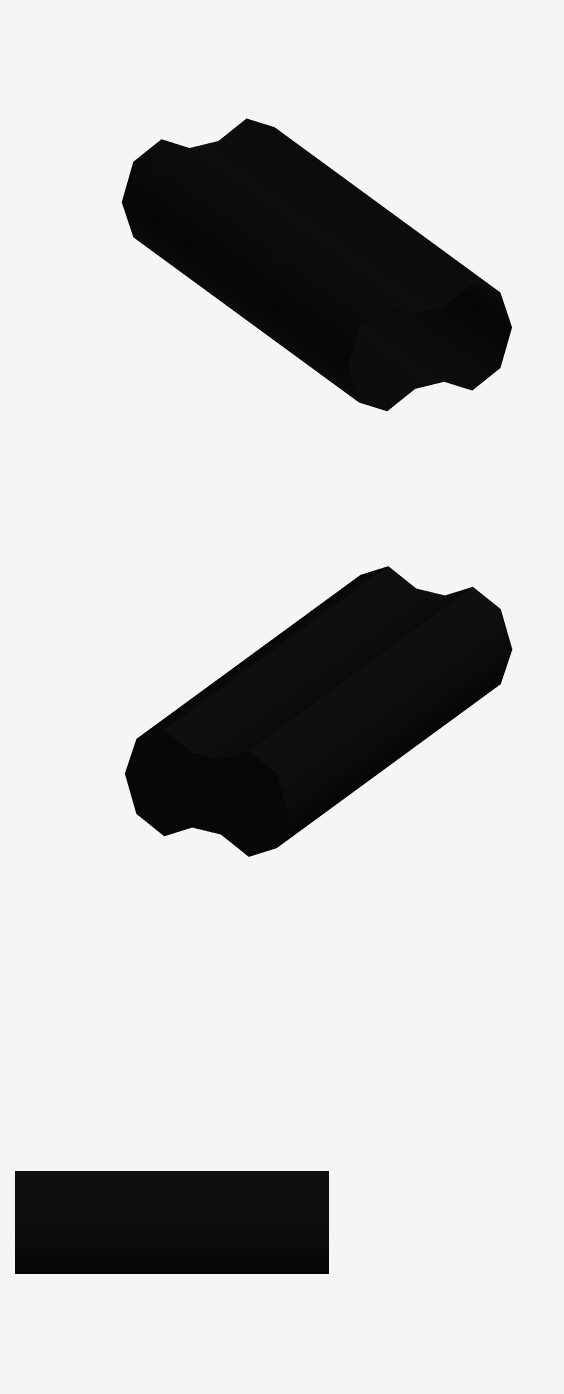
File: Shotgun.fbx
3 views of the same model, one above another, from view 1: azimuth 30°, elevation 25°; view 2: azimuth 150°, elevation 25°; view 3: azimuth 270°, elevation 25° (orthographic). The views are drawn at different scales.
Parts seen in each view (by area): view 1: Shotgun; view 2: Shotgun; view 3: Shotgun.
Boxes of the visible parts, left/top/right/bottom form: Shotgun: left=121, top=118, right=511, bottom=410; Shotgun: left=125, top=566, right=512, bottom=856; Shotgun: left=15, top=1171, right=328, bottom=1273.
Bounding box in the file's own units: 92.63 × 135 × 257.
